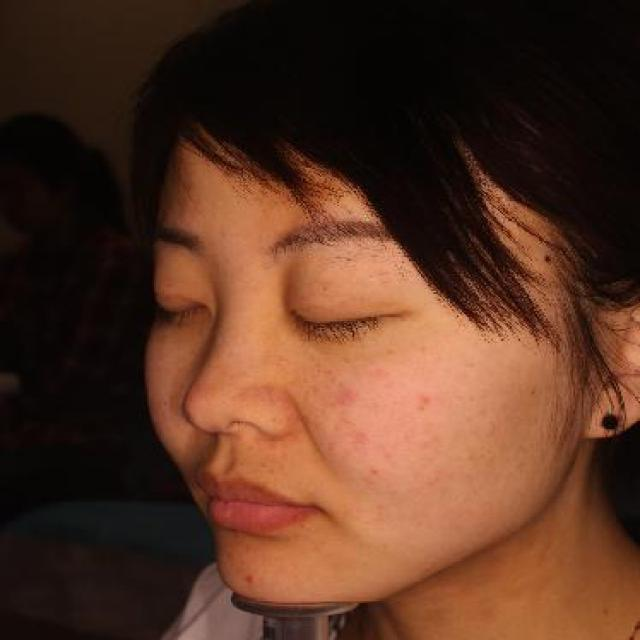acne: (326, 380, 364, 411), (410, 388, 438, 410), (534, 248, 558, 270), (236, 568, 260, 586), (364, 464, 386, 478)
